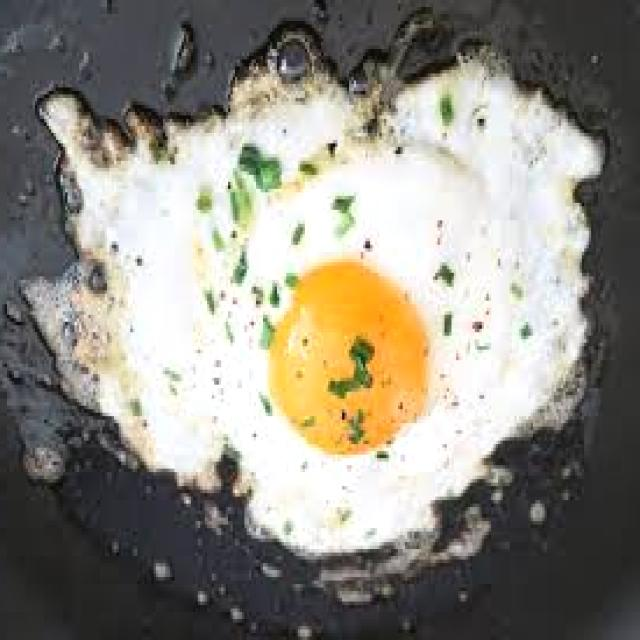telur ceplok: (40, 24, 603, 532)
